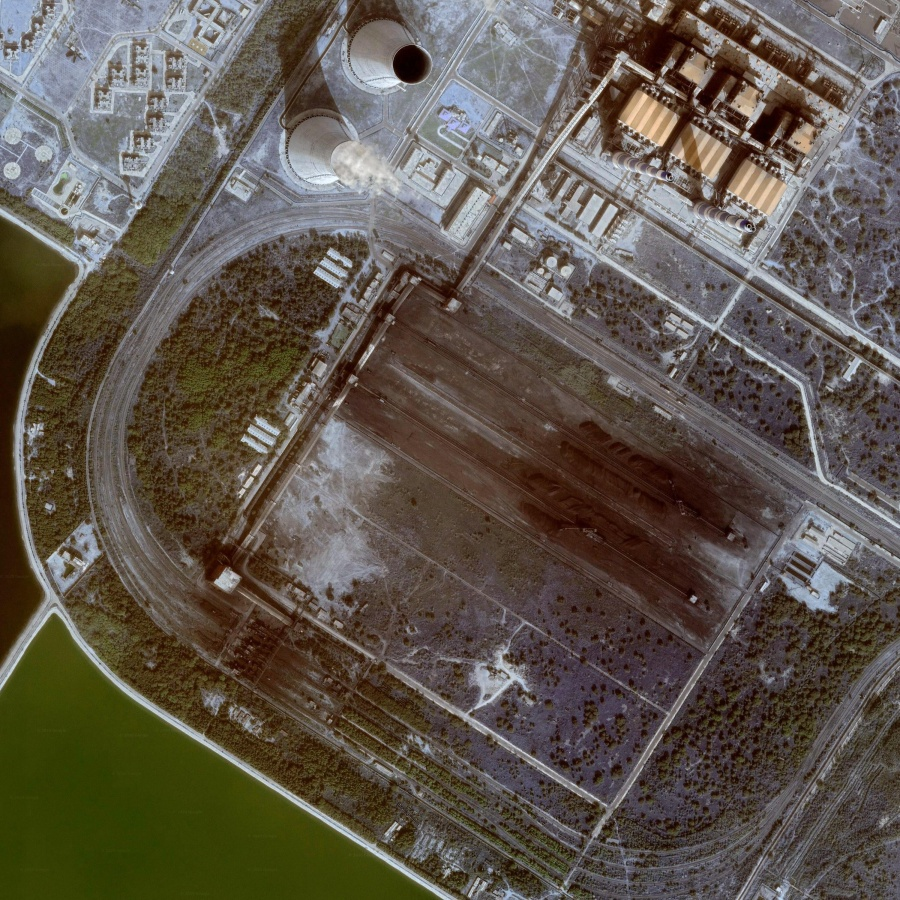PowerPlant: (320, 268, 794, 646)
